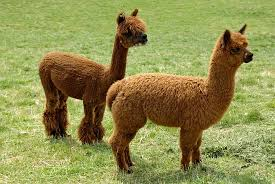alpaca: (106, 22, 253, 174), (38, 8, 147, 145)
